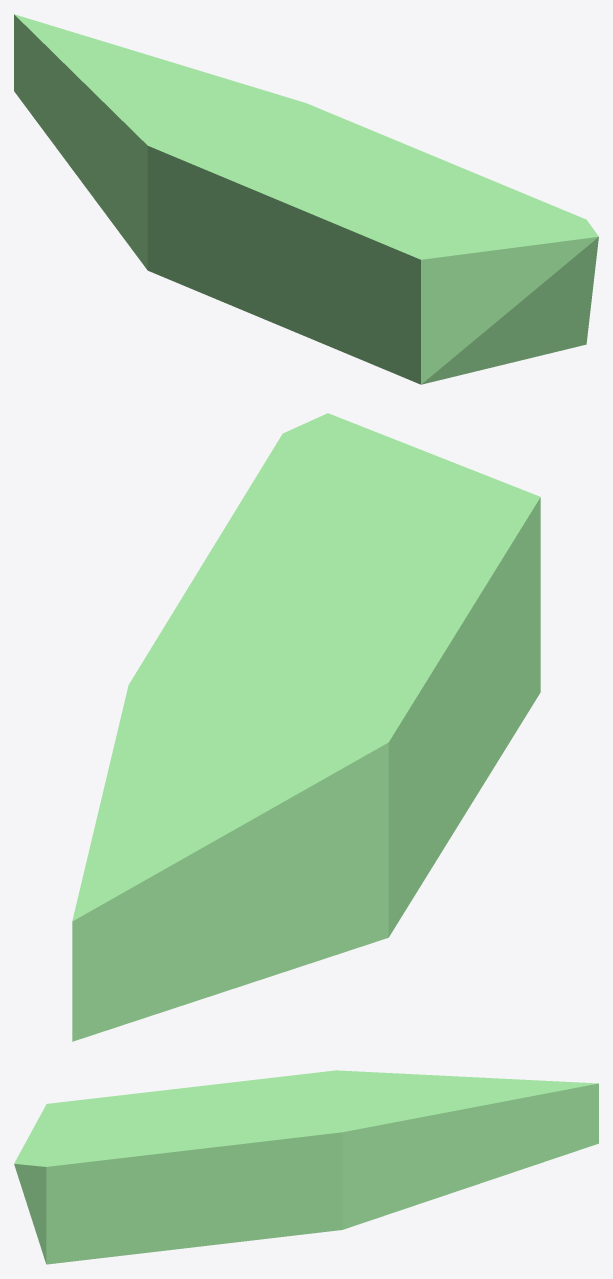
File: dvkr_robot_Lp11_respondable_PSM2_coll_4.dae
3 views of the same model, one above another, from view 1: azimuth 30°, elevation 25°; view 2: azimuth 150°, elevation 25°; view 3: azimuth 270°, elevation 25° (orthographic). The views are drawn at different scales.
Visible parts, largest first — view 1: Node_0000023514CD8050; view 2: Node_0000023514CD8050; view 3: Node_0000023514CD8050.
Boxes of the visible parts, x1,y1,x2,y2 form: Node_0000023514CD8050: (14,14,598,384); Node_0000023514CD8050: (72,413,540,1041); Node_0000023514CD8050: (14,1070,598,1264).
Bounding box in the file's own units: 0.0276 × 0.013 × 0.0706.
